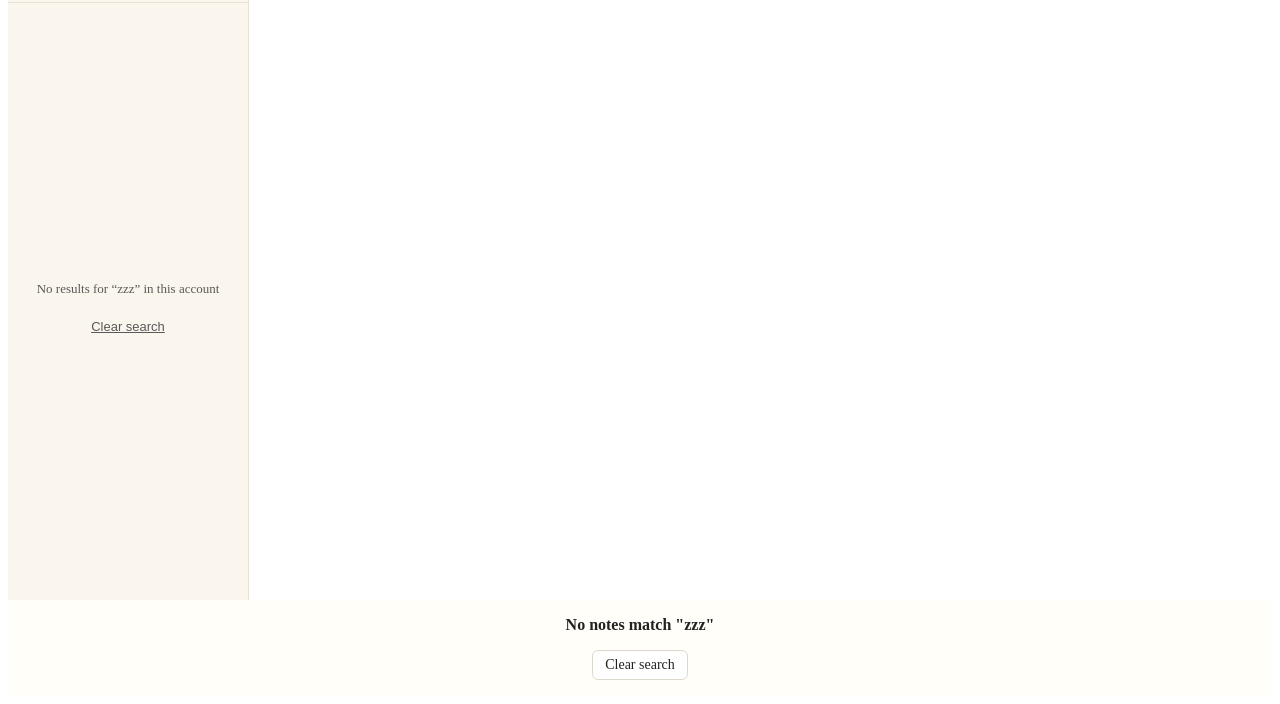
Test: editor empty state › a search with no results: No notes match "q" and Clear search
(page scrolled)
Click the button "Clear search" below "No notes match \"zzz\"". click: (640, 665)
box: [592,650,688,680]
(page scrolled)
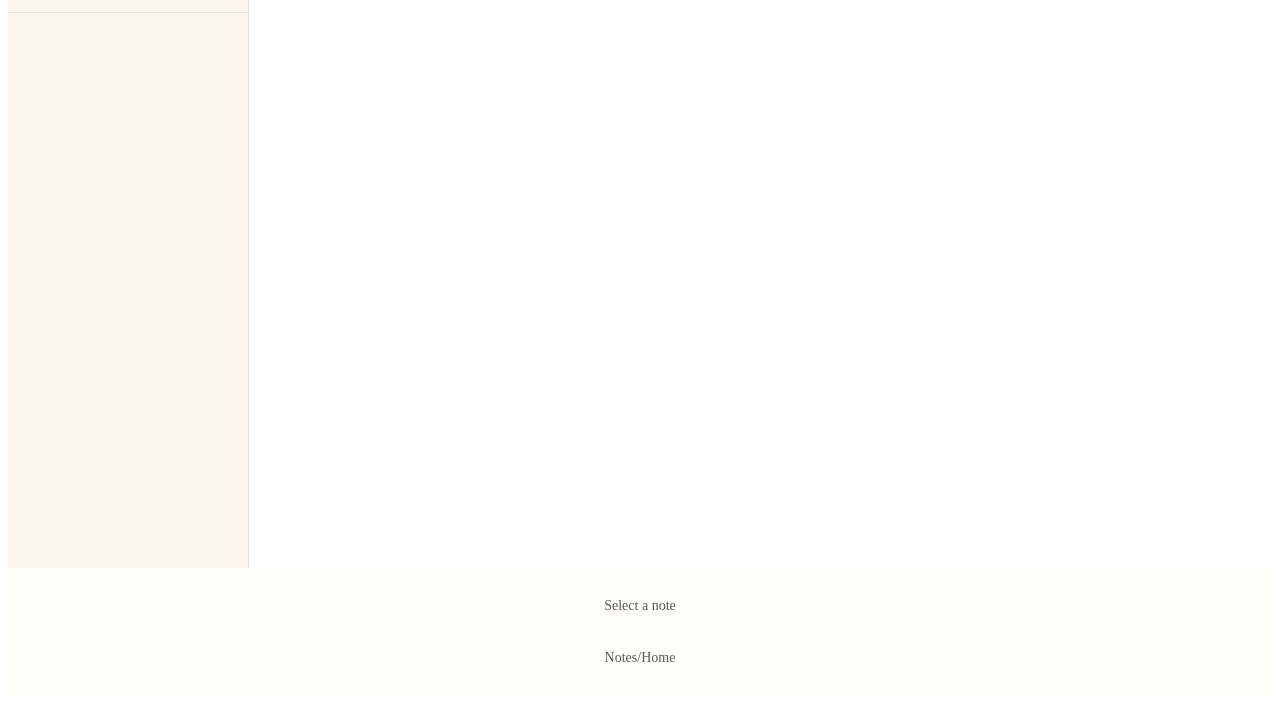
Expected: the element with class "empty-editor" reads "Select a note Notes/Home", [8,568,1272,696]
